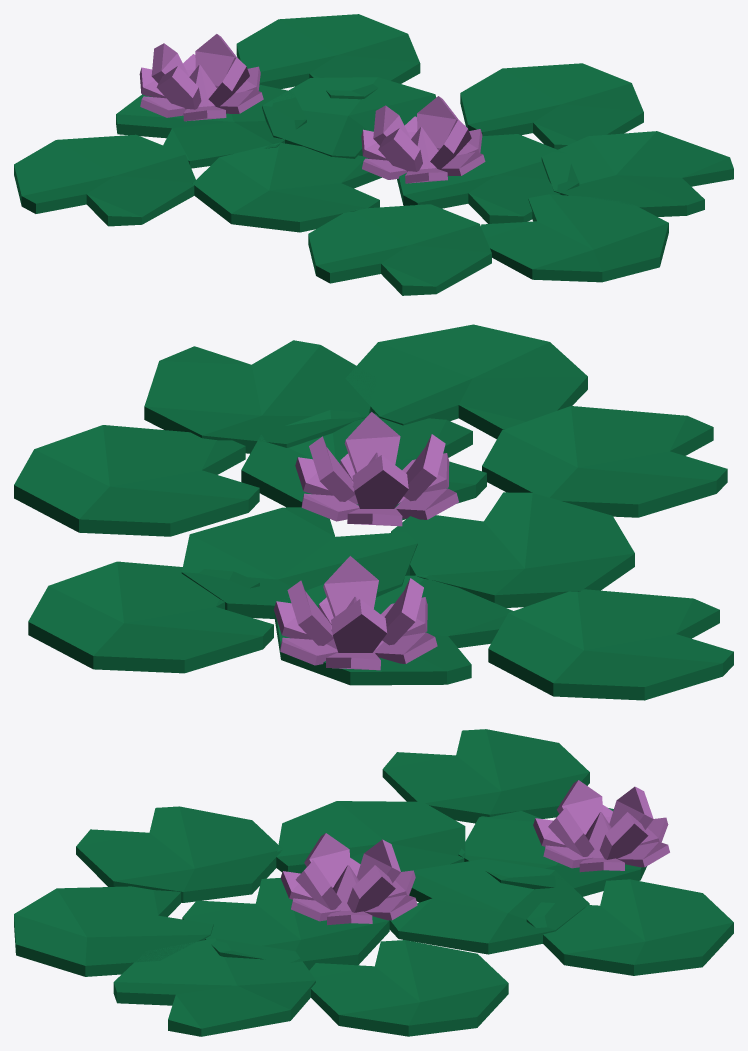
Rendered from 033 Lotus.FBX.
3 views of the same model, one above another, from view 1: azimuth 30°, elevation 25°; view 2: azimuth 150°, elevation 25°; view 3: azimuth 270°, elevation 25° (orthographic). The views are drawn at different scales.
Visible parts, largest first — view 1: Circle.157, Circle.148, Circle.152, Circle.149, Circle.156, Circle.154, Circle.151, Circle.155, Circle.153, Circle.158, Circle.159, Circle.150; view 2: Circle.148, Circle.156, Circle.157, Circle.151, Circle.152, Circle.149, Circle.154, Circle.153, Circle.159, Circle.158, Circle.150, Circle.155; view 3: Circle.156, Circle.154, Circle.157, Circle.151, Circle.152, Circle.148, Circle.153, Circle.149, Circle.155, Circle.158, Circle.159, Circle.150.
Part boxes in pixels (<box>): Circle.157: <box>308,204,491,295</box>; Circle.148: <box>14,134,195,226</box>; Circle.152: <box>481,194,668,282</box>; Circle.149: <box>192,142,381,232</box>; Circle.156: <box>460,63,643,149</box>; Circle.154: <box>541,131,733,216</box>; Circle.151: <box>236,14,420,99</box>; Circle.155: <box>397,134,579,223</box>; Circle.153: <box>262,77,436,158</box>; Circle.158: <box>139,34,263,121</box>; Circle.159: <box>361,96,485,183</box>; Circle.150: <box>116,84,306,168</box>; Circle.148: <box>488,589,733,700</box>; Circle.156: <box>14,425,259,536</box>; Circle.157: <box>482,406,727,517</box>; Circle.151: <box>28,561,273,673</box>; Circle.152: <box>345,324,587,439</box>; Circle.149: <box>391,492,634,607</box>; Circle.154: <box>144,340,375,453</box>; Circle.153: <box>181,507,417,618</box>; Circle.159: <box>295,412,458,526</box>; Circle.158: <box>273,556,437,670</box>; Circle.150: <box>274,575,513,685</box>; Circle.155: <box>241,410,486,520</box>; Circle.156: <box>309,940,508,1036</box>; Circle.154: <box>113,938,315,1036</box>; Circle.157: <box>76,806,282,902</box>; Circle.151: <box>526,879,733,975</box>; Circle.152: <box>14,886,213,976</box>; Circle.148: <box>382,729,589,823</box>; Circle.153: <box>389,859,589,954</box>; Circle.149: <box>276,801,465,873</box>; Circle.155: <box>182,878,389,970</box>; Circle.158: <box>533,780,669,872</box>; Circle.159: <box>280,833,417,925</box>; Circle.150: <box>458,808,646,896</box>.
Size of the model in its own units: 383 by 38.36 by 393.
